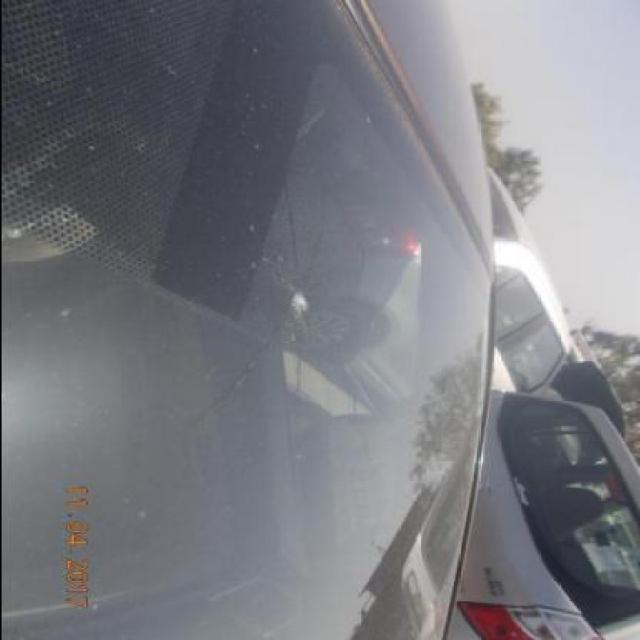damage: (263, 248, 333, 366)
